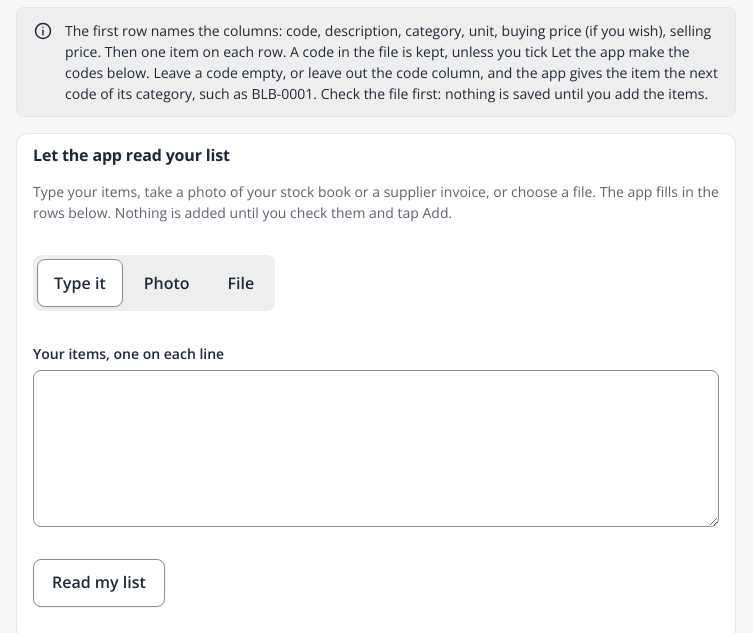
Test case: the setup helper on Import items › shows a draft field's problem only once the field is left (docs/ui-rules.md rule 10)
Type "padlock" into the text box labelled "Your items, one on each line" at (376, 449), box [33,370,719,527]
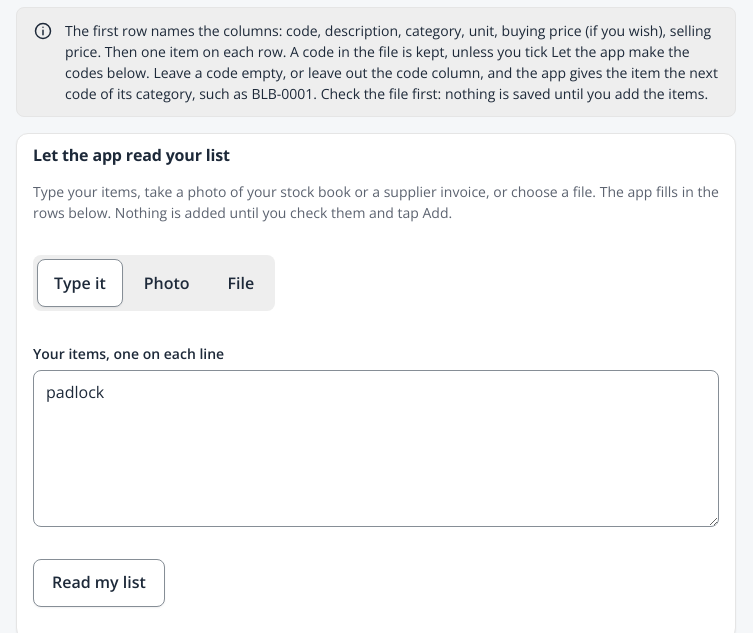
Click the button "Read my list" at (99, 583), box [33,559,165,607]
(page scrolled)
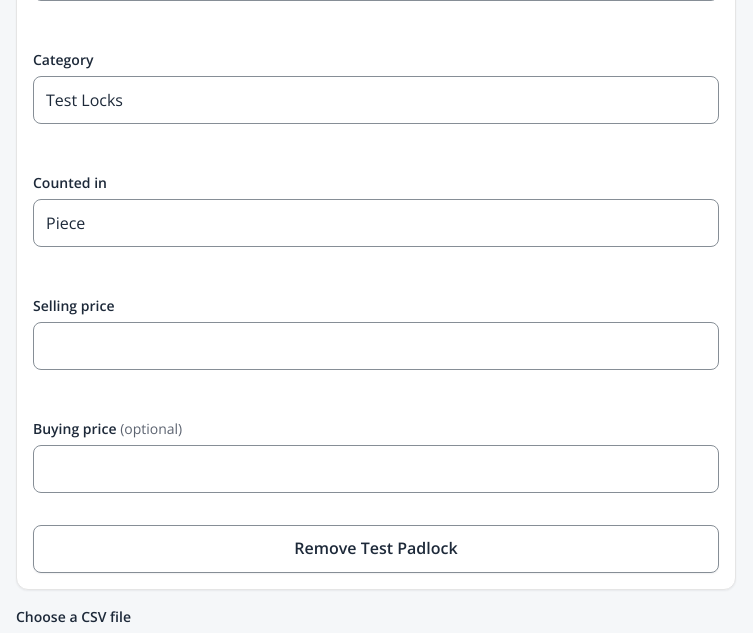
Expected: the text "Add the selling price." is not shown
Expected: the field labelled "Selling price" is empty
Leave the field labelled "Selling price", box [33,322,719,370]
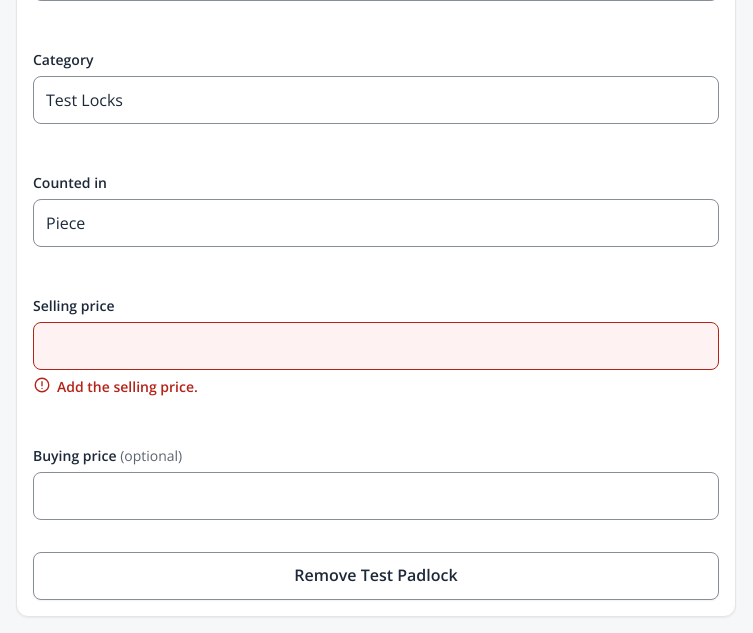
Expected: the text "Add the selling price." is shown, [33,376,198,396]
